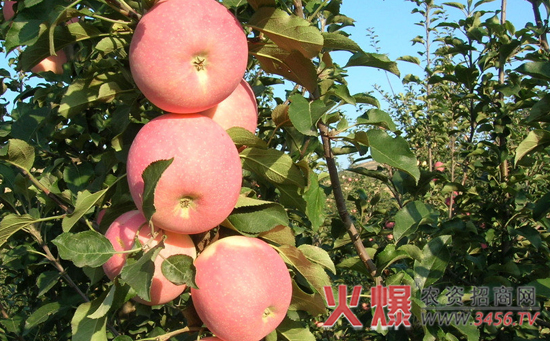apple: (127, 3, 247, 113), (190, 234, 294, 341)
obscured(1)_apple: (120, 114, 246, 233)
obscured(3)_apple: (99, 210, 196, 302), (192, 66, 260, 146)
